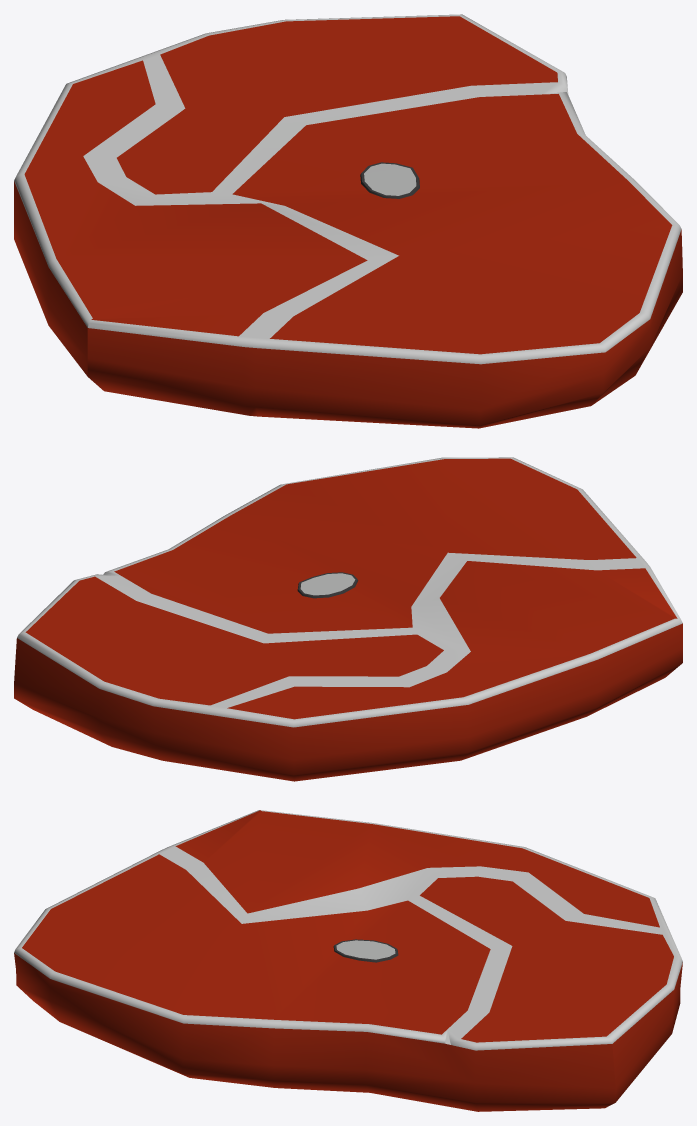
File: Meat_5.fbx
3 views of the same model, one above another, from view 1: azimuth 30°, elevation 25°; view 2: azimuth 150°, elevation 25°; view 3: azimuth 270°, elevation 25° (orthographic). The views are drawn at different scales.
Visible parts, largest first — view 1: Meat_5; view 2: Meat_5; view 3: Meat_5.
Part boxes in pixels (x1,y1,x2,y2): Meat_5: [14, 14, 682, 428]; Meat_5: [14, 457, 682, 781]; Meat_5: [14, 810, 682, 1111].
Bounding box in the file's own units: 35.59 × 6 × 42.32.
